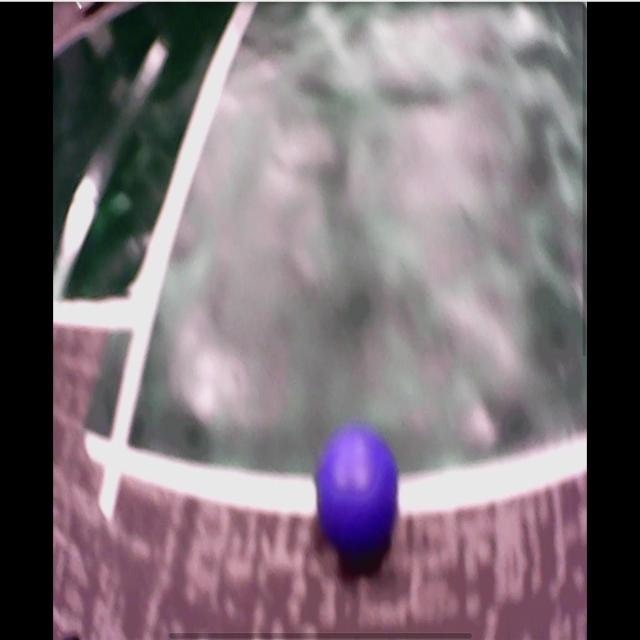ball: (319, 429, 400, 556)
